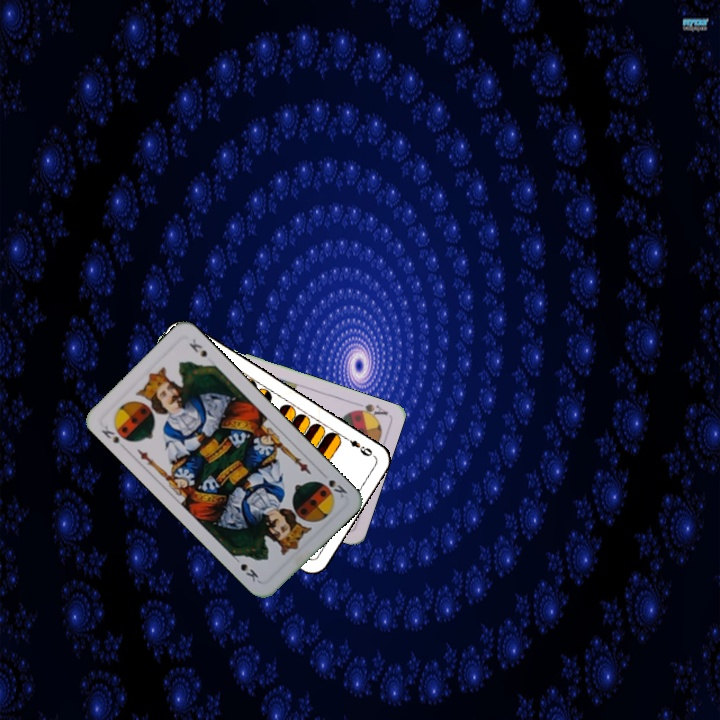E9: (340, 432, 376, 459)
SA: (348, 400, 390, 422)
SK: (317, 468, 350, 500), (97, 422, 123, 446)
